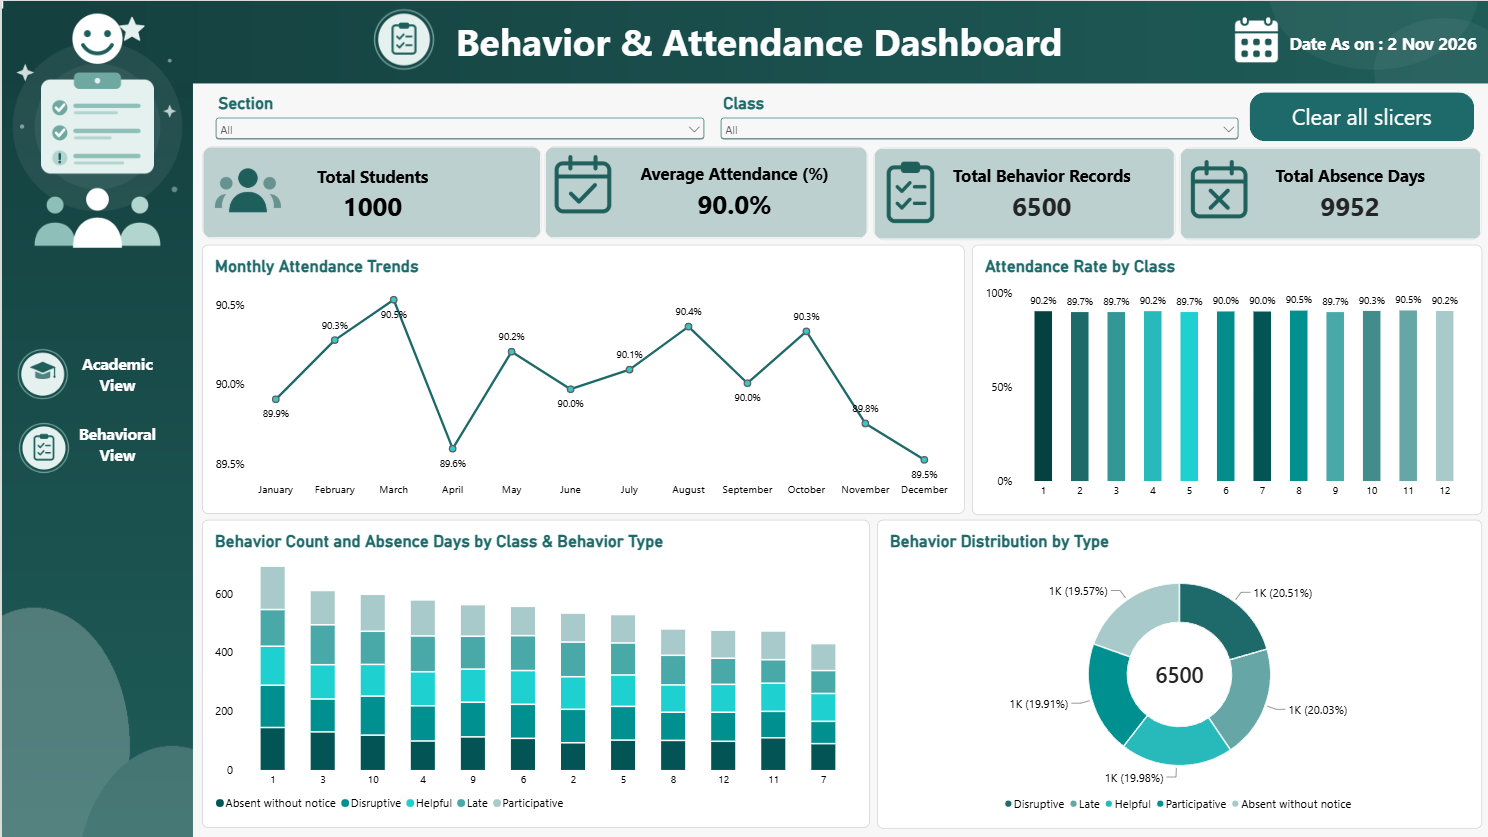

This screenshot's page, from the dashboard's own definition file:
{"tool":"powerbi","page":{"name":"Behavioral Overview","canvas":[1920,1080],"ordinal":1},"visuals":[{"type":"slicer","fields":{"Values":["Students.Class"]},"box":[922.1,118.6,678,64],"z":0},{"type":"bookmarkNavigator","box":[68,440,162,174],"z":0,"group":"g2"},{"type":"image","box":[20,446,66.7,70],"z":1000,"group":"g2"},{"type":"donutChart","title":"Behavior Distribution by Type","fields":{"Category":["Behavior.BehaviorType"],"Y":["Attendance.Behavior Count"]},"box":[1129.1,669.1,780.9,398.2],"z":1000},{"type":"image","box":[22,542,66.7,70],"z":2000,"group":"g2"},{"type":"columnChart","title":"Behavior Count and Absence Days by Class & Behavior Type","fields":{"Category":["Students.Class"],"Series":["Behavior.BehaviorType"],"Y":["Attendance.Behavior Count"]},"box":[258.5,669.2,861.5,397.7],"z":2000},{"type":"clusteredColumnChart","title":"Attendance Rate by Class","fields":{"Category":["Students.Class"],"Y":["Attendance.Attendance %"]},"box":[1251.8,314.5,658.2,349.1],"z":3000},{"type":"lineChart","title":"Monthly Attendance Trends","fields":{"Category":["Attendance.Date.Variation.Date Hierarchy.Month"],"Y":["Attendance.Attendance %"]},"box":[258.2,314.5,983.6,347.3],"z":4000},{"type":"slicer","fields":{"Values":["Students.Section"]},"box":[270.5,118.6,640,70],"z":5000},{"type":"image","box":[0,10,246.7,1070],"z":6000},{"type":"image","box":[1.6,0,1918.3,106.7],"z":7000},{"type":"image","box":[1585,15,66.7,71.7],"z":8000},{"type":"textbox","box":[1661.7,40,248.3,43.3],"z":9000},{"type":"group","id":"g1","title":"Group 1","box":[444,10,1032,94],"z":10000},{"type":"shape","box":[1520,188,390,120],"z":11000},{"type":"shape","box":[1124,188,390,120],"z":12000},{"type":"shape","box":[700.7,187.9,417.9,120],"z":13000},{"type":"actionButton","box":[1610,118.3,290,63.3],"z":14000},{"type":"shape","box":[257.9,187.9,438.6,120],"z":15000},{"type":"cardVisual","fields":{"Data":["Attendance.Attendance %"]},"box":[773.3,188.3,345,115],"z":16000},{"type":"cardVisual","fields":{"Data":["Attendance.Absent Days"]},"box":[1570,188.3,340,120],"z":17000},{"type":"cardVisual","fields":{"Data":["Attendance.Behavior Count"]},"box":[1171.7,188.3,341.7,120],"z":18000},{"type":"cardVisual","fields":{"Data":["_Measures.Total Students"]},"box":[258.3,190,440,118.3],"z":19000},{"type":"image","box":[270,196,96,94],"z":20000},{"type":"textbox","box":[586,20,889,85],"z":20500,"group":"g1"},{"type":"image","box":[1522,196,96,94],"z":21000},{"type":"image","box":[444,10,150,80],"z":21501,"group":"g1"},{"type":"image","box":[1124,198,96,94],"z":22000},{"type":"image","box":[702,190,96,94],"z":23000},{"type":"image","box":[0,0,246,324],"z":24000},{"type":"group","id":"g2","title":"Group 2","box":[20,440,210,174],"z":26001}]}

Visuals, with their boxes in screenshot pixels (x1, y1, x2, y2), scaled from the page's 1920x1080 canvas onto the 1488x837 screenshot:
slicer - Students.Class: 715,92,1240,142
bookmarkNavigator: 53,341,178,476
image: 16,346,67,400
"Behavior Distribution by Type" donutChart: 875,519,1480,827
image: 17,420,69,474
"Behavior Count and Absence Days by Class & Behavior Type" columnChart: 200,519,868,827
"Attendance Rate by Class" clusteredColumnChart: 970,244,1480,514
"Monthly Attendance Trends" lineChart: 200,244,962,513
slicer - Students.Section: 210,92,706,146
image: 0,8,191,836
image: 1,0,1487,83
image: 1228,12,1280,67
textbox: 1288,31,1480,65
"Group 1" group: 344,8,1144,81
shape: 1178,146,1480,239
shape: 871,146,1173,239
shape: 543,146,867,239
actionButton: 1248,92,1472,141
shape: 200,146,540,239
cardVisual - Attendance.Attendance %: 599,146,867,235
cardVisual - Attendance.Absent Days: 1217,146,1480,239
cardVisual - Attendance.Behavior Count: 908,146,1173,239
cardVisual - _Measures.Total Students: 200,147,541,239
image: 209,152,284,225
textbox: 454,16,1143,81
image: 1180,152,1254,225
image: 344,8,460,70
image: 871,153,946,226
image: 544,147,618,220
image: 0,0,191,251
"Group 2" group: 16,341,178,476
